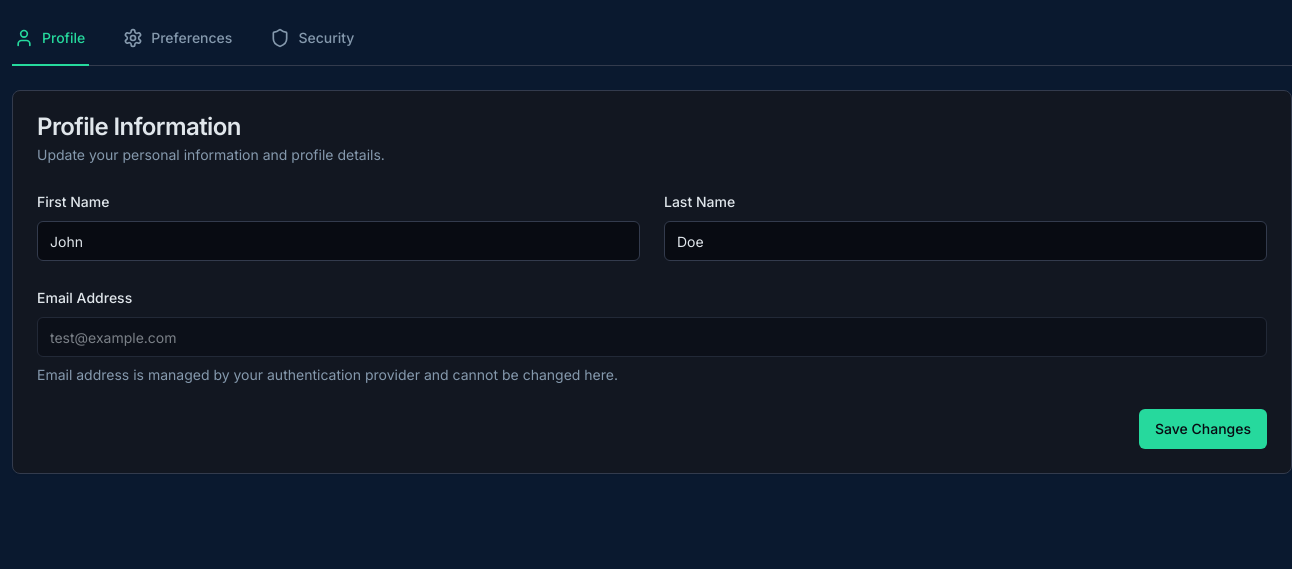
UserProfile › Profile Form › submits profile update successfully
The image size is (1292, 569).
Replace the text in the field showing "John" with "Jane" at (338, 241), box [37,221,640,261]
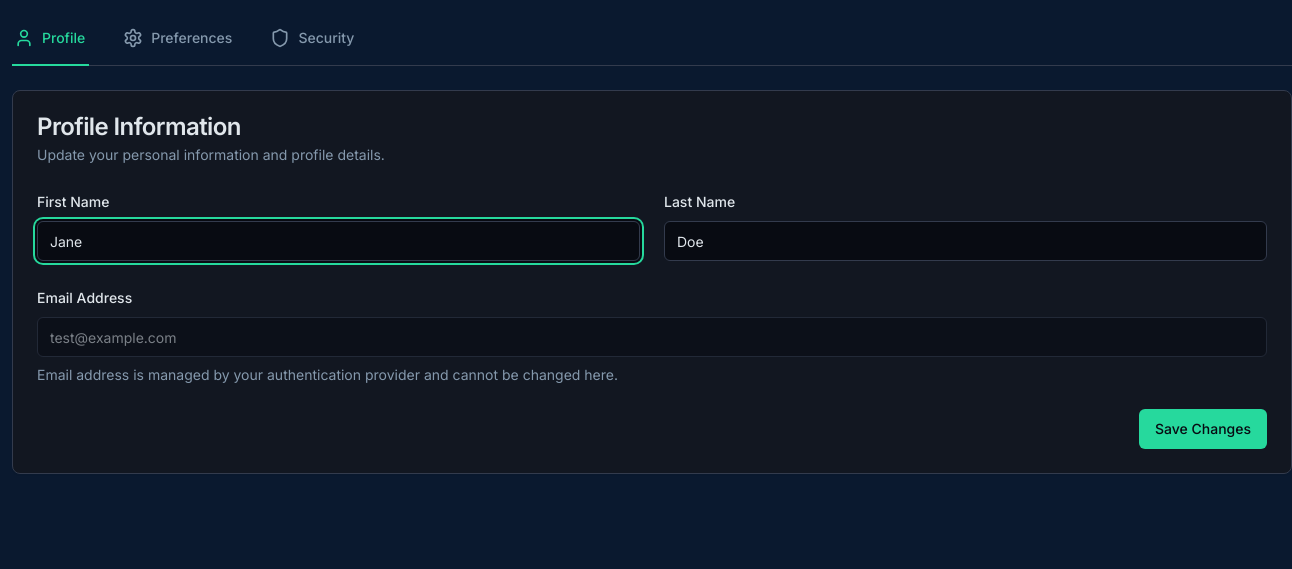
Click the button "Save Changes" at (1203, 429), box [1139,409,1267,449]
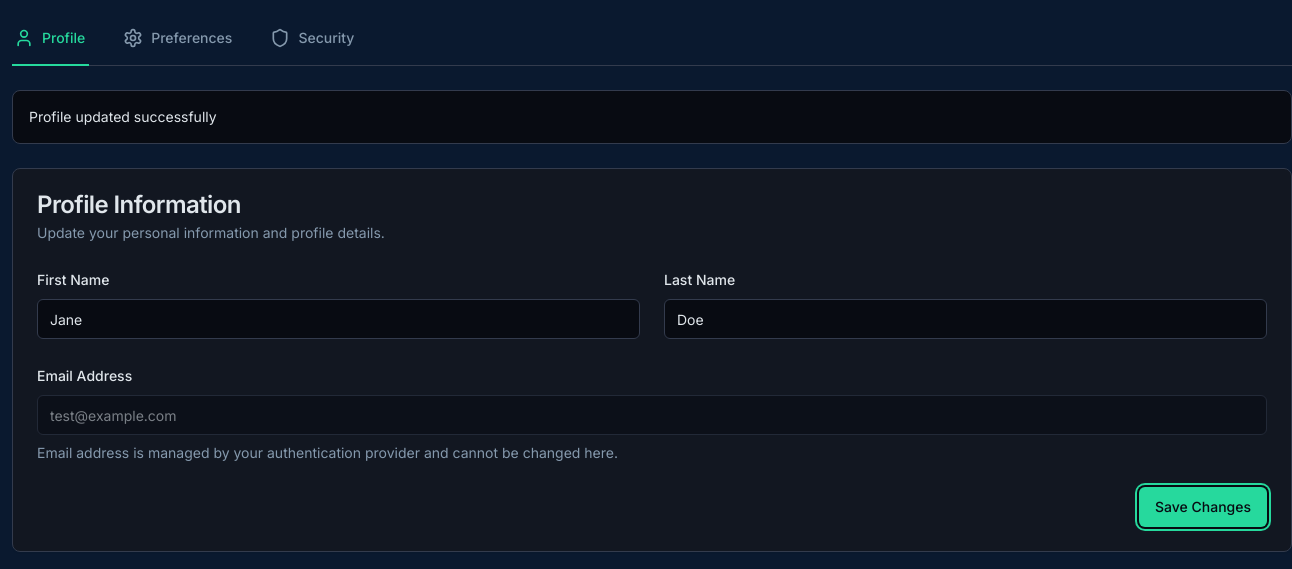
Expected: the text "Profile updated successfully" is shown, [29,108,217,125]
